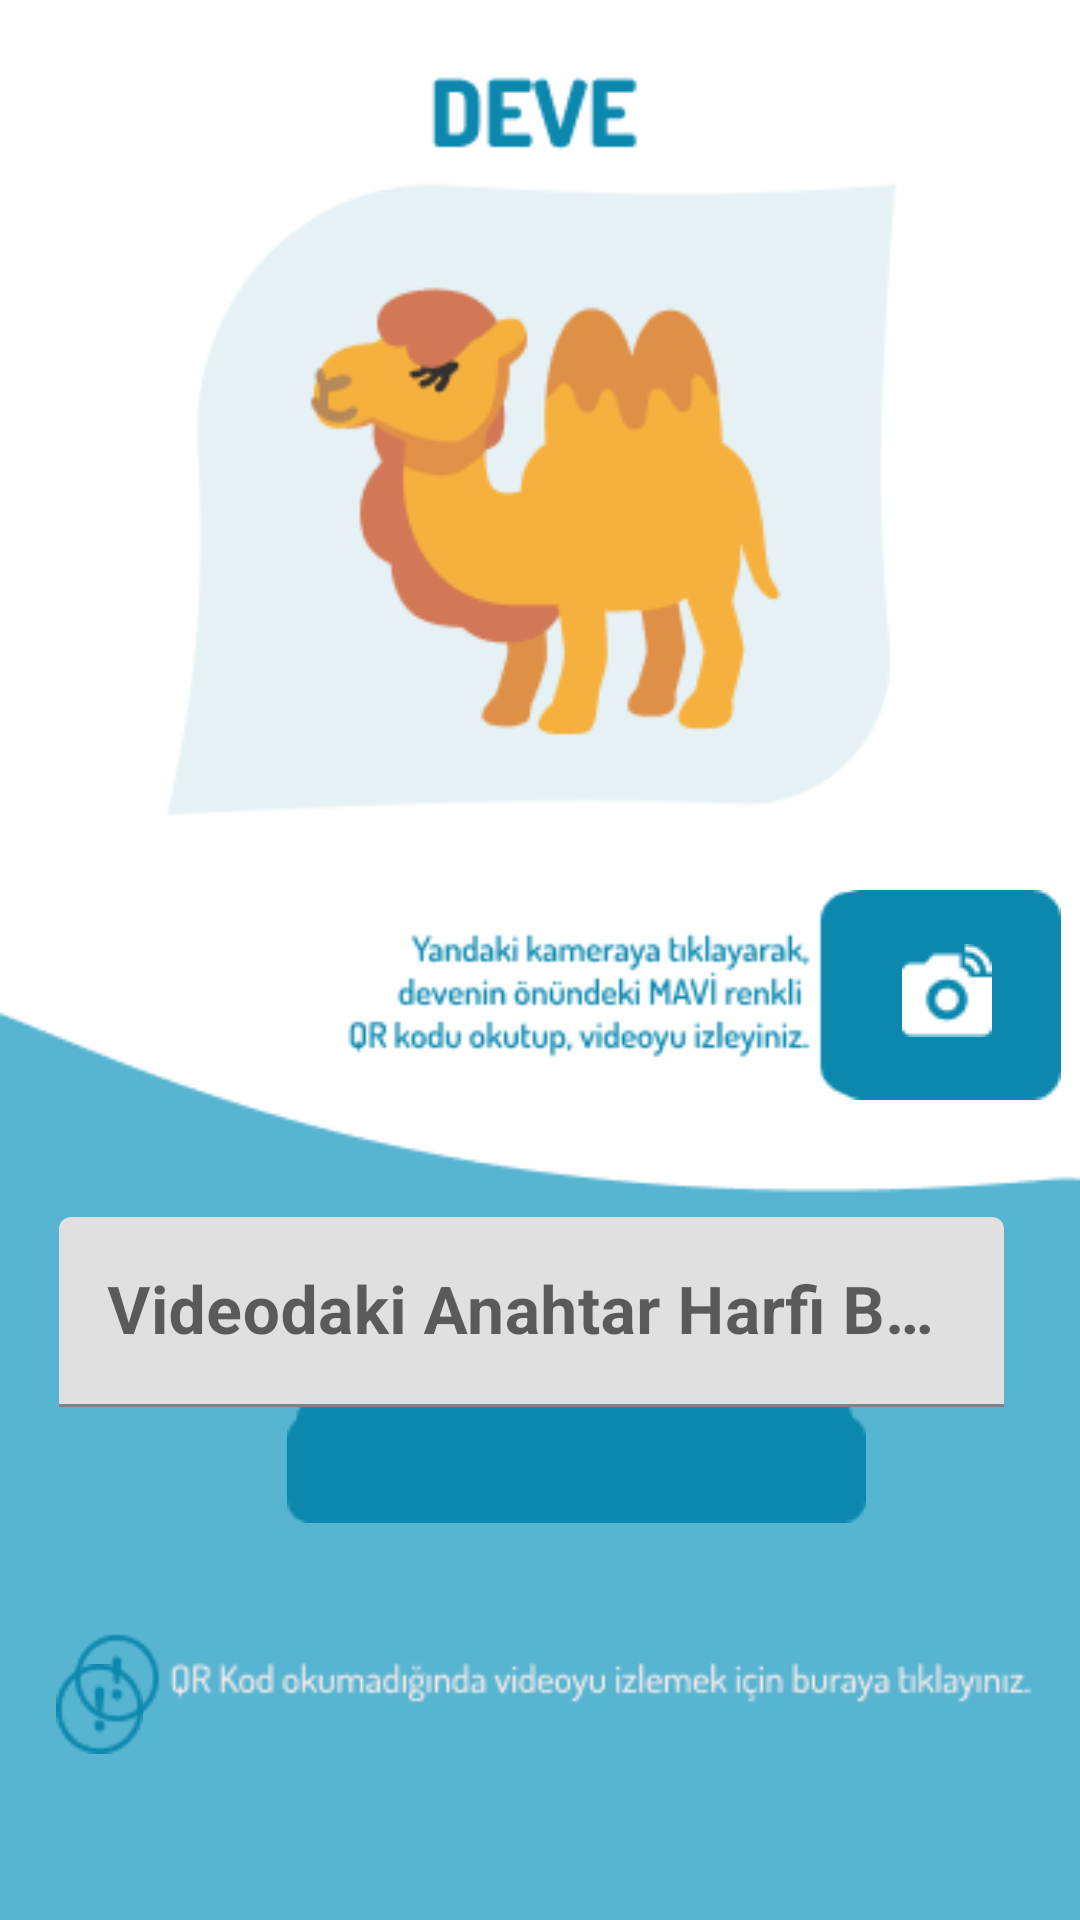

Where to tap for icons on this 1080*1920 app screen, as [x,y]:
kamera: [947,990]
